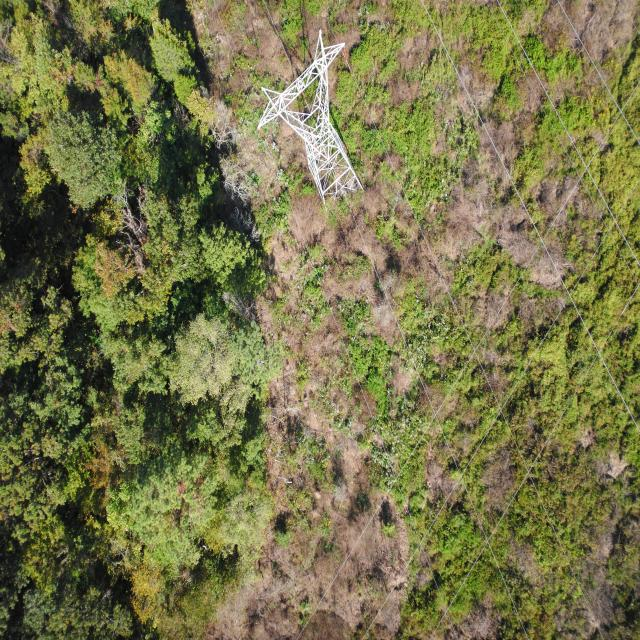Area of Interest: (4, 9, 256, 632)
